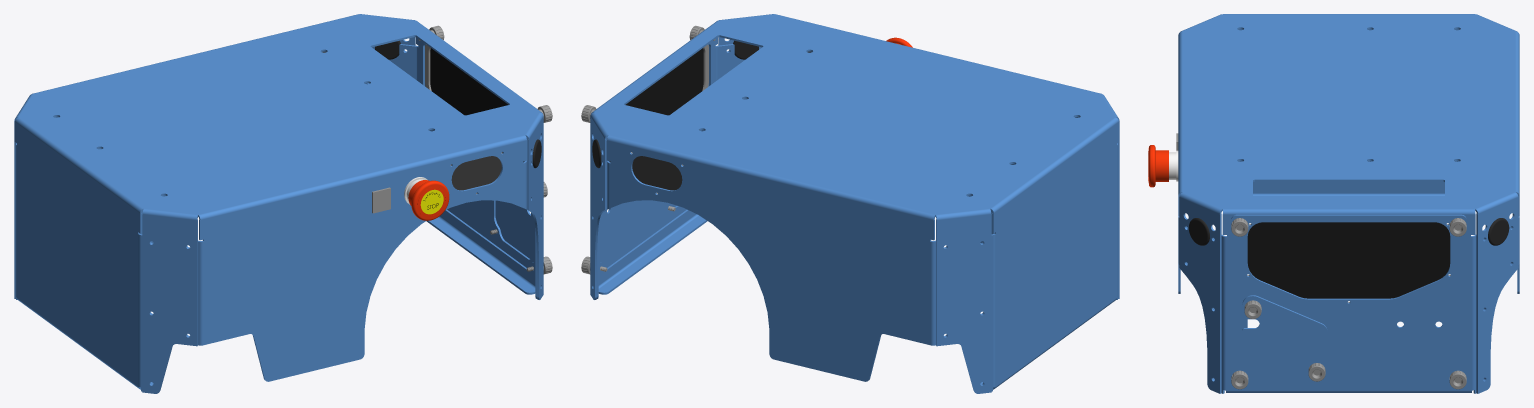
The model's file is magni_shell.dae.
The picture shows the model from 3 angles, left to right: view 1: azimuth 30°, elevation 25°; view 2: azimuth 150°, elevation 25°; view 3: azimuth 270°, elevation 25°; orthographic projection.
Parts seen in each view (by area): view 1: Body_10, Body_20, Body_6, Body_9, Body_2, _3DGeom_562; view 2: Body_10, Body_6, Body_20, Body_14; view 3: Body_10, Body_6, Body_20, Body_9, _3DGeom_562, Body_3, Body_17.
Boxes of the visible parts, x1,y1,x2,y2 form: Body_10: [14, 14, 543, 393]; Body_20: [430, 48, 524, 162]; Body_6: [425, 33, 536, 267]; Body_9: [495, 200, 530, 258]; Body_2: [451, 152, 502, 190]; _3DGeom_562: [408, 180, 449, 220]; Body_10: [590, 14, 1119, 393]; Body_6: [597, 33, 708, 267]; Body_20: [609, 48, 703, 162]; Body_14: [631, 153, 682, 190]; Body_10: [1178, 14, 1519, 393]; Body_6: [1231, 214, 1466, 383]; Body_20: [1247, 222, 1450, 298]; Body_9: [1242, 295, 1327, 377]; _3DGeom_562: [1148, 145, 1168, 187]; Body_3: [1488, 218, 1509, 245]; Body_17: [1189, 218, 1209, 245].
Size of the model in its own units: 0.457 by 0.3482 by 0.19.
